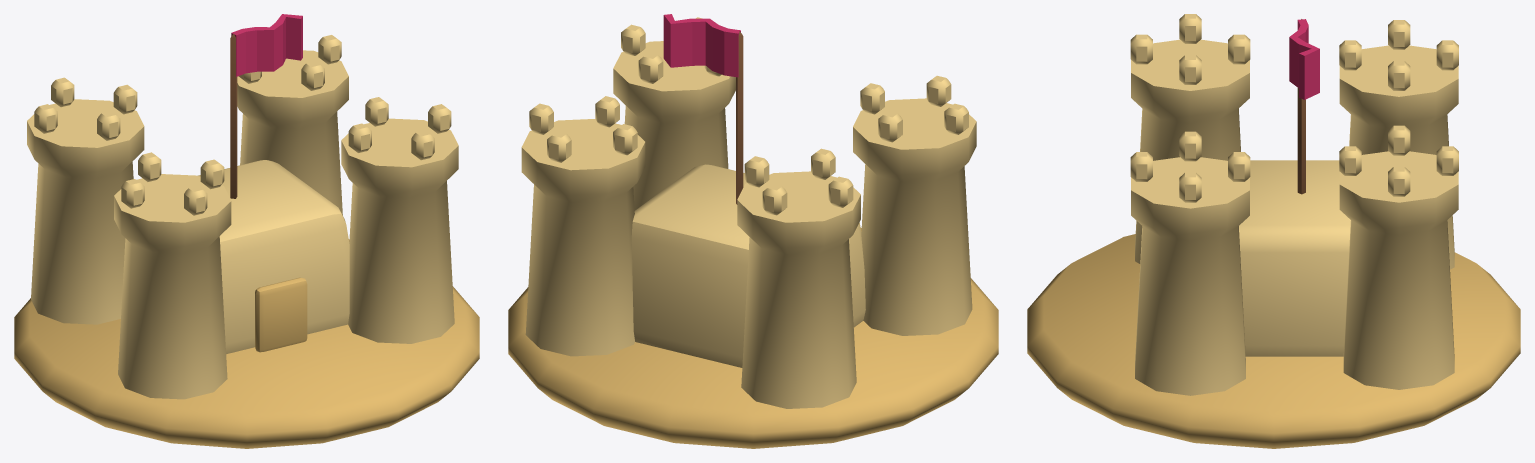
The model's file is W3_Sandcastle_A.fbx.
The picture shows the model from 3 angles, left to right: view 1: azimuth 30°, elevation 25°; view 2: azimuth 150°, elevation 25°; view 3: azimuth 270°, elevation 25°; orthographic projection. The views are drawn at different scales.
Visible parts, largest first — view 1: Static, Flag; view 2: Static, Flag; view 3: Static, Flag.
Part boxes in pixels (x1,y1,x2,y2): Static: (14, 34, 479, 448); Flag: (231, 14, 302, 76); Static: (508, 17, 998, 448); Flag: (663, 14, 740, 77); Static: (1027, 14, 1520, 448); Flag: (1289, 19, 1319, 99).
Size of the model in its own units: 3.6 by 2.63 by 3.55.
